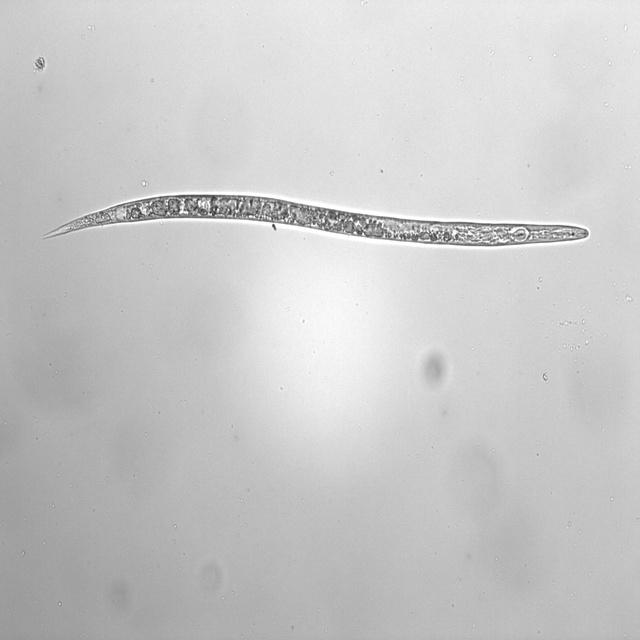Meloidogyne: (27, 188, 594, 247)
